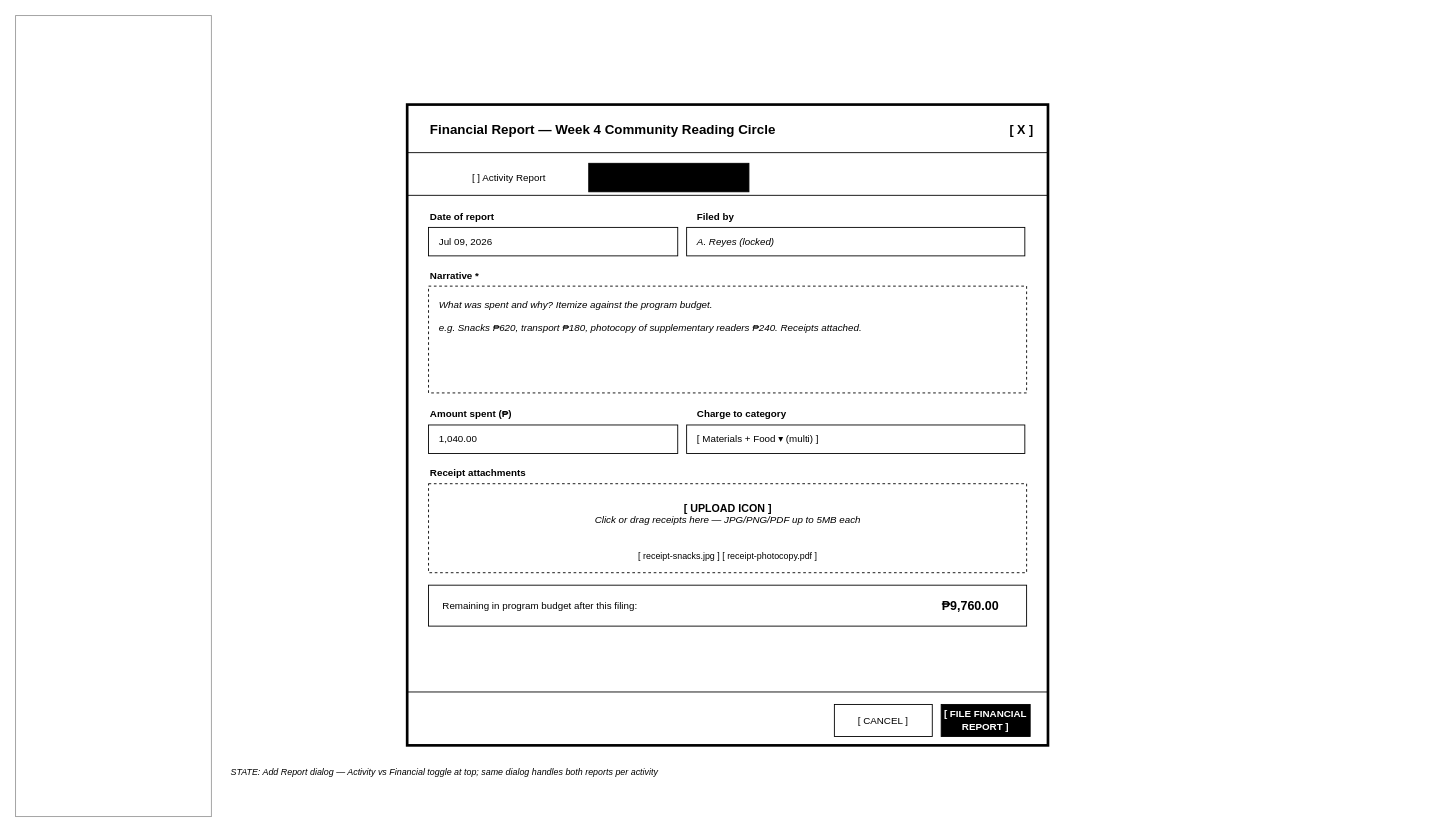
This 1437x832 diagram has some shape labels left out. The centre of each missing label's shape, as x and y in pixels:
"[x] Financial Report" goes at pixel 668 177.
"AGAPE" goes at pixel 113 416.
